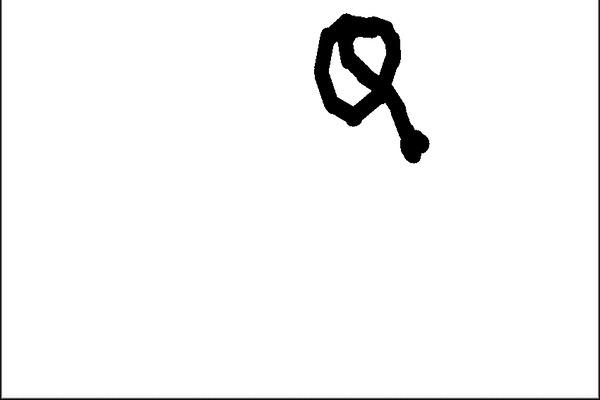Q: (296, 6, 417, 169)
